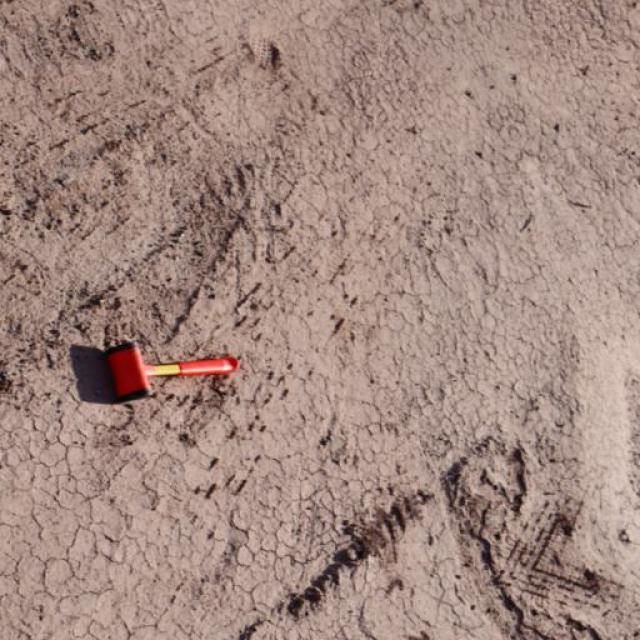mallet: (104, 340, 240, 401)
